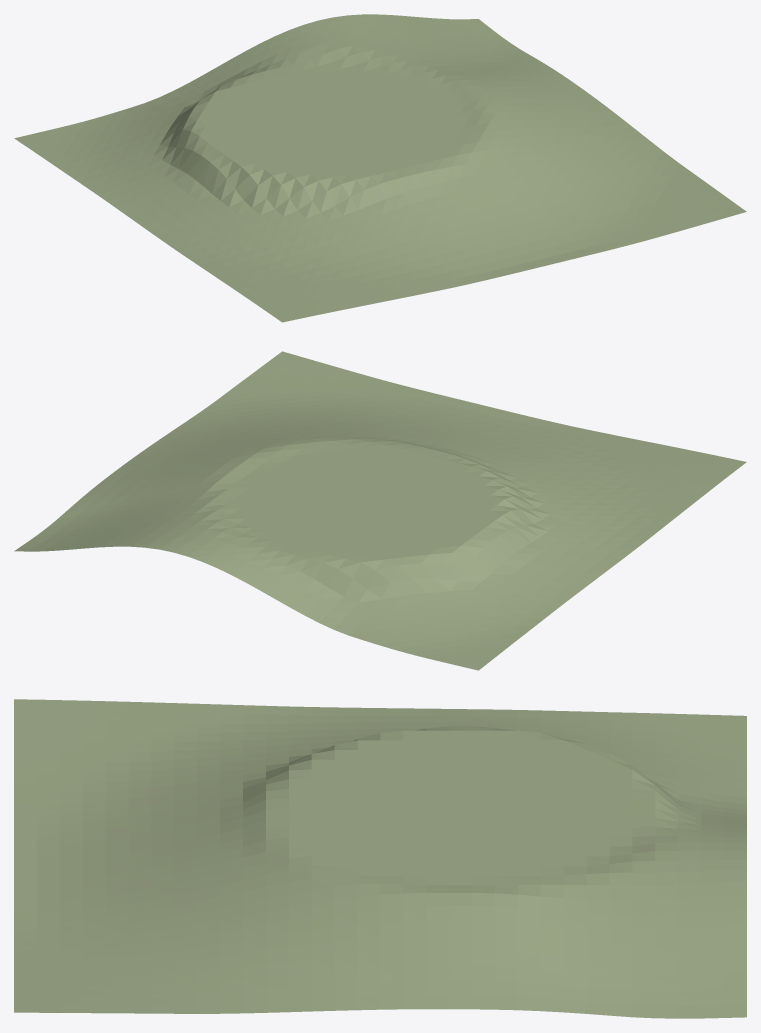
Rendered from coast-2-1.glb.
3 renders of one model, top to bottom at view 1: azimuth 30°, elevation 25°; view 2: azimuth 150°, elevation 25°; view 3: azimuth 270°, elevation 25°, orthographic. The views are drawn at different scales.
Parts seen in each view (by area): view 1: coast-2-1; view 2: coast-2-1; view 3: coast-2-1.
Boxes of the visible parts, x1,y1,x2,y2 form: coast-2-1: (14, 14, 746, 322); coast-2-1: (14, 351, 746, 670); coast-2-1: (14, 699, 746, 1018).
Size of the model in its own units: 256 by 23.14 by 256.
